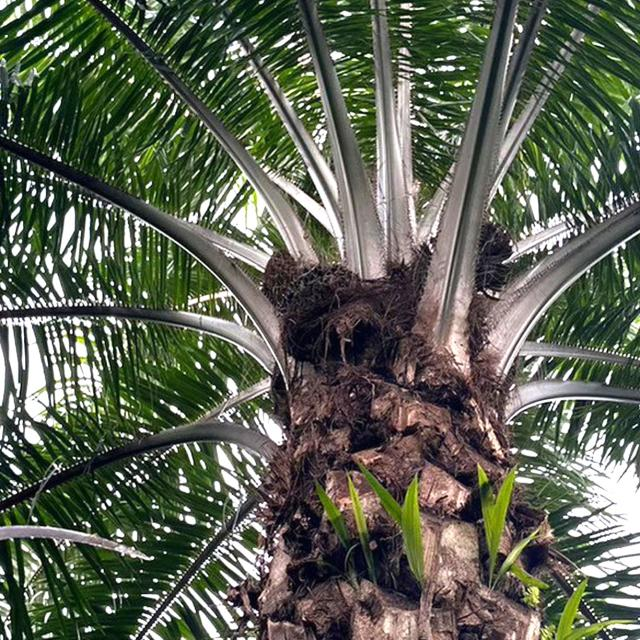unripe: (270, 256, 384, 373)
